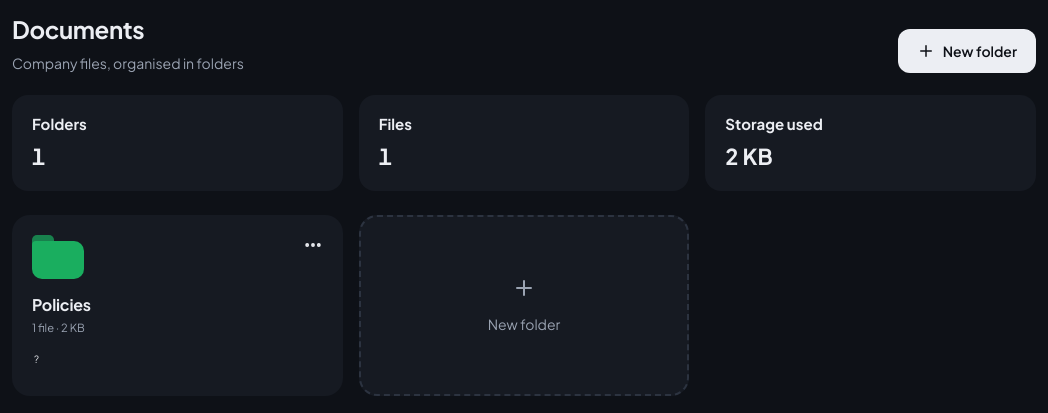
Test: Documents › opens a folder onto its own files
Click the heading "Policies" at (61, 304), box x1=32 y1=294 x2=91 y2=315
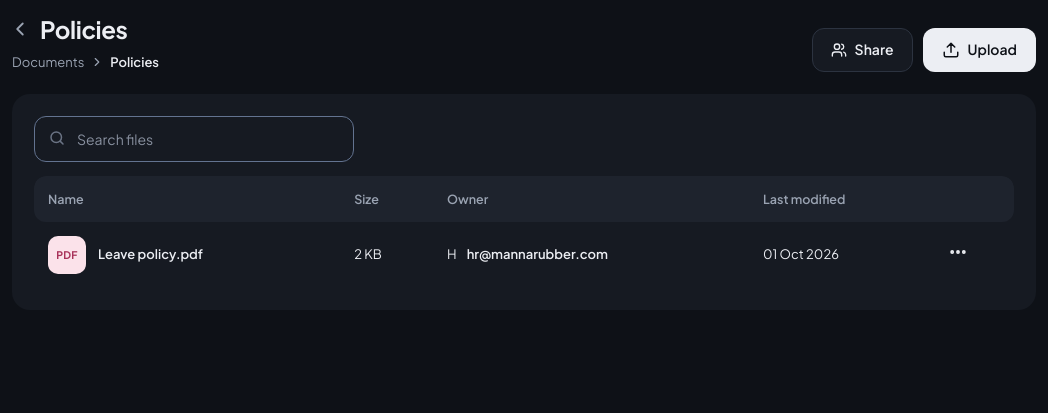
Result: the row "PDF Leave policy.pdf 2 KB H hr@mannarubber.com 01 Oct 2026" is shown at x1=34 y1=222 x2=1014 y2=288
Result: the text "Leave policy.pdf" is shown at x1=98 y1=245 x2=203 y2=264
